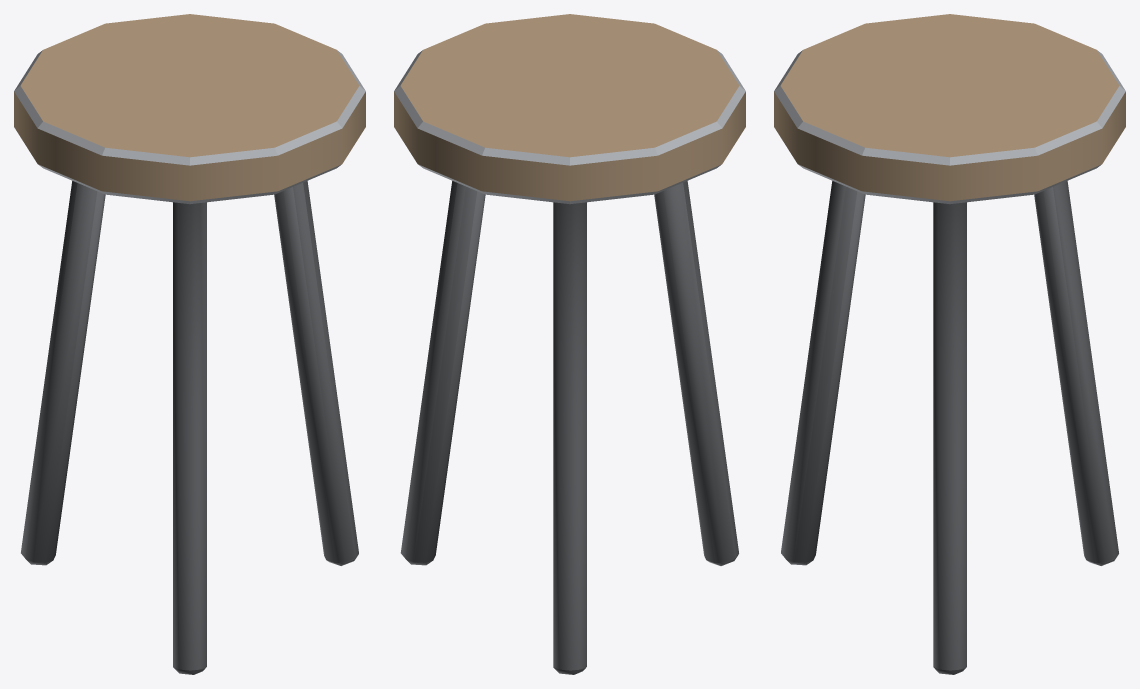
Rendered from stool.glb.
3 renders of one model, left to right at view 1: azimuth 30°, elevation 25°; view 2: azimuth 150°, elevation 25°; view 3: azimuth 270°, elevation 25°, orthographic.
Parts seen in each view (by area): view 1: stool; view 2: stool; view 3: stool.
Part boxes in pixels (left/top/right/bottom): stool: left=14, top=14, right=365, bottom=674; stool: left=394, top=14, right=745, bottom=674; stool: left=774, top=14, right=1125, bottom=674.
Size of the model in its own units: 0.3562 by 0.5467 by 0.34.
